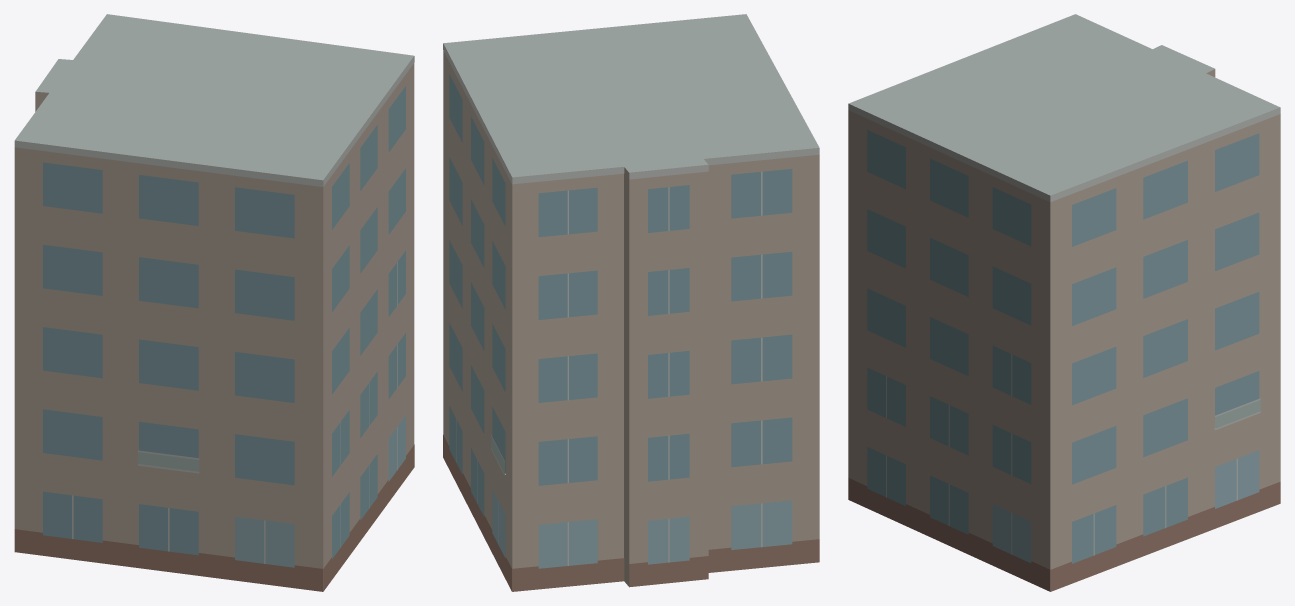
File: survey-upis-32890875.glb
3 renders of one model, left to right at view 1: azimuth 30°, elevation 25°; view 2: azimuth 150°, elevation 25°; view 3: azimuth 270°, elevation 25°, orthographic. The views are drawn at different scales.
Visible parts, largest first — view 1: survey-upis-32890875.tmp; view 2: survey-upis-32890875.tmp; view 3: survey-upis-32890875.tmp.
Part boxes in pixels (box(x1,y1,x2,y2)): survey-upis-32890875.tmp: box(14, 14, 414, 591); survey-upis-32890875.tmp: box(443, 14, 819, 591); survey-upis-32890875.tmp: box(848, 14, 1280, 591).
Size of the model in its own units: 14.57 by 14.8 by 14.64.
